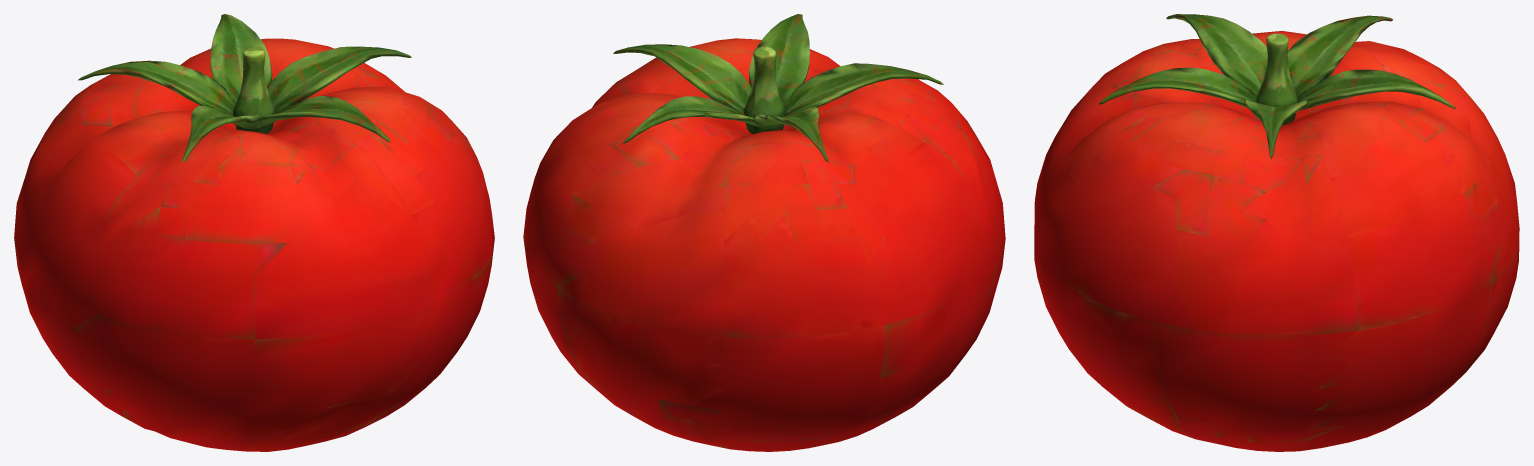
The model's file is tomato.glb.
3 views of the same model, side by side, from view 1: azimuth 30°, elevation 25°; view 2: azimuth 150°, elevation 25°; view 3: azimuth 270°, elevation 25° (orthographic). The views are drawn at different scales.
Parts seen in each view (by area): view 1: Mesh_0; view 2: Mesh_0; view 3: Mesh_0.
Boxes of the visible parts, x1,y1,x2,y2 form: Mesh_0: (14,14,494,451); Mesh_0: (523,14,1005,451); Mesh_0: (1034,14,1519,451).
Size of the model in its own units: 0.0679 by 0.06 by 0.0679.
Materials: 1 (1 with a texture image).
